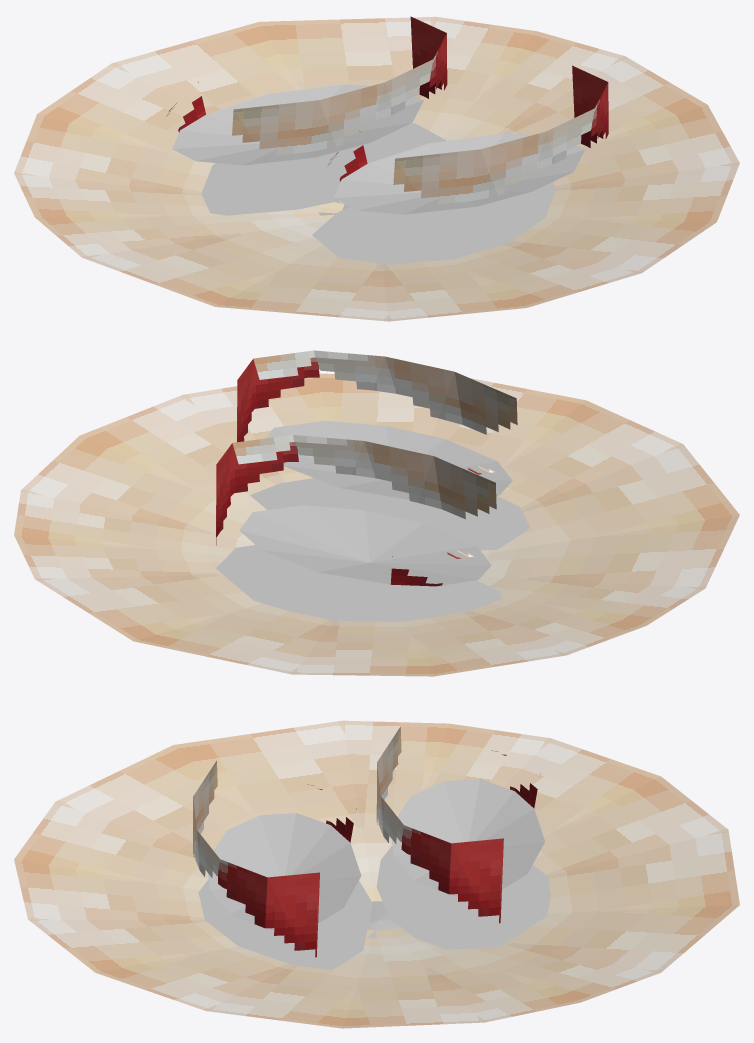
Rendered from sushi_g.obj.
The picture shows the model from 3 angles, top to bottom: view 1: azimuth 30°, elevation 25°; view 2: azimuth 150°, elevation 25°; view 3: azimuth 270°, elevation 25°; orthographic projection.
Parts seen in each view (by area): view 1: plate_Cone, gunkan_Cylinder.001, gunkan001_Cylinder002; view 2: plate_Cone, gunkan001_Cylinder002, gunkan_Cylinder.001; view 3: plate_Cone, gunkan001_Cylinder002, gunkan_Cylinder.001.
Boxes of the visible parts, bbox=[...] form: plate_Cone: bbox=[14, 16, 739, 321]; gunkan_Cylinder.001: bbox=[312, 65, 608, 264]; gunkan001_Cylinder002: bbox=[166, 16, 447, 215]; plate_Cone: bbox=[14, 373, 739, 676]; gunkan001_Cylinder002: bbox=[216, 435, 502, 621]; gunkan_Cylinder.001: bbox=[237, 350, 530, 550]; plate_Cone: bbox=[14, 720, 739, 1028]; gunkan001_Cylinder002: bbox=[376, 727, 550, 949]; gunkan_Cylinder.001: bbox=[193, 760, 372, 970].
Size of the model in its own units: 0.991 by 0.2319 by 0.9875.
